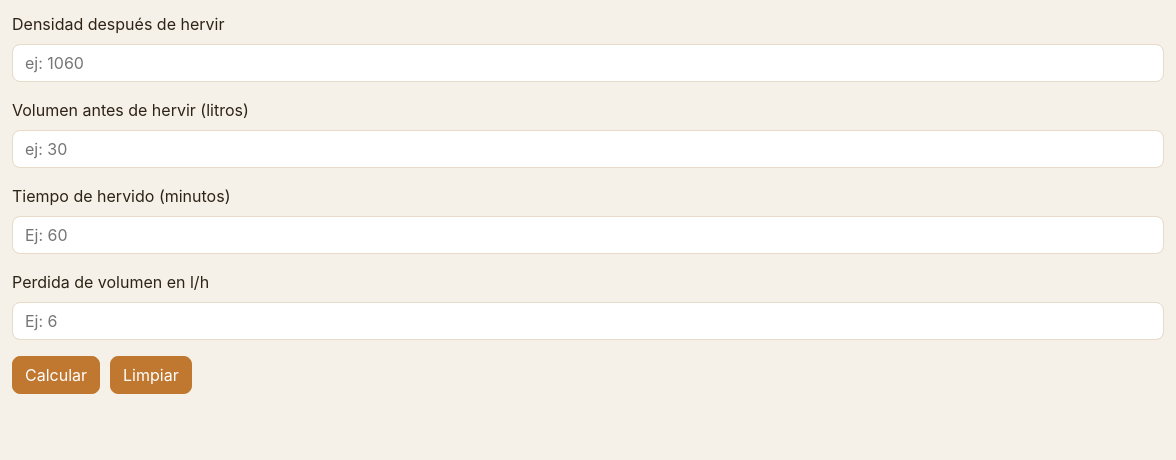
Test: InitialDensity › limpiar borra resultado y los cuatro campos
This screenshot has width=1176, height=460.
Type "1060" into the field with placeholder "ej: 1060" at (588, 63), box [12,44,1164,82]
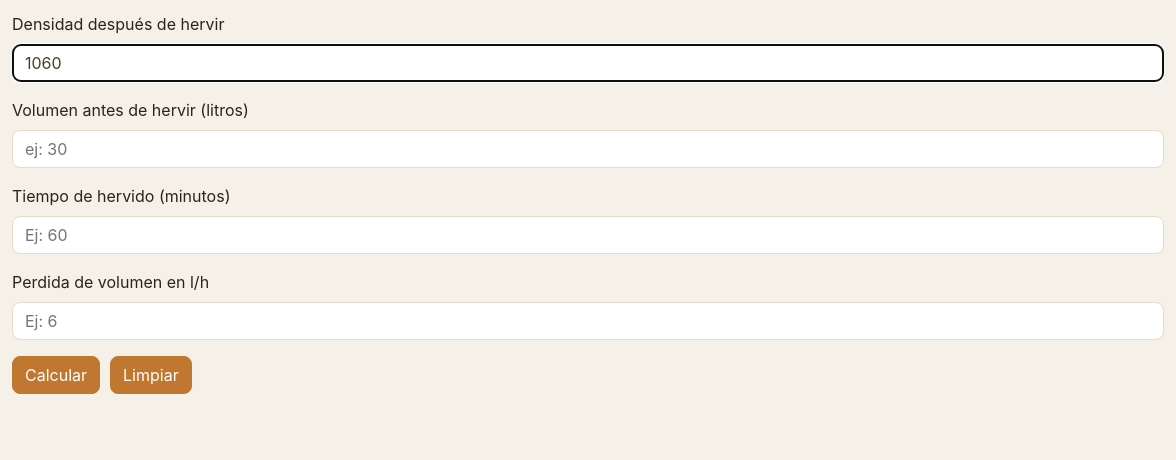
Type "25" into the field with placeholder "ej: 30" at (588, 149), box [12,130,1164,168]
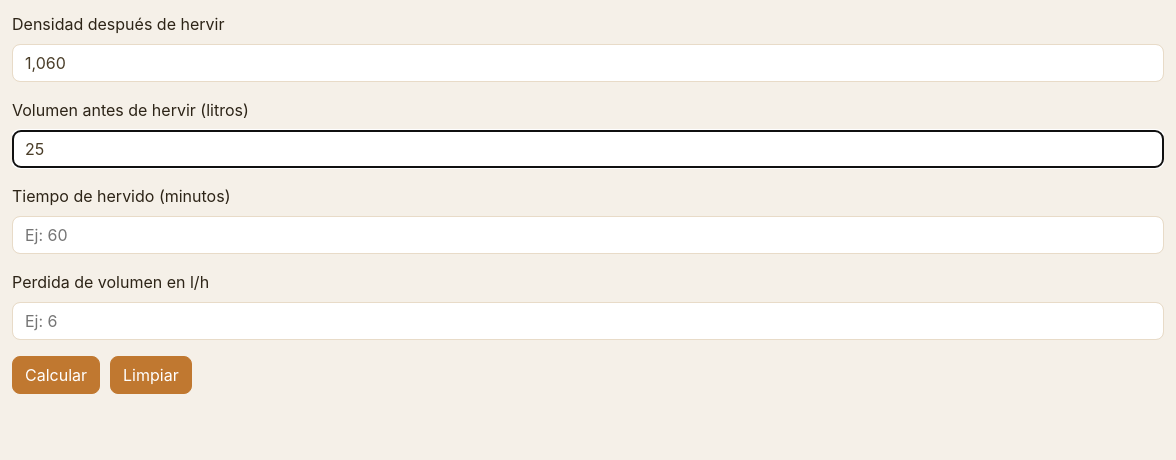
Type "60" into the field with placeholder "Ej: 60" at (588, 235), box [12,216,1164,254]
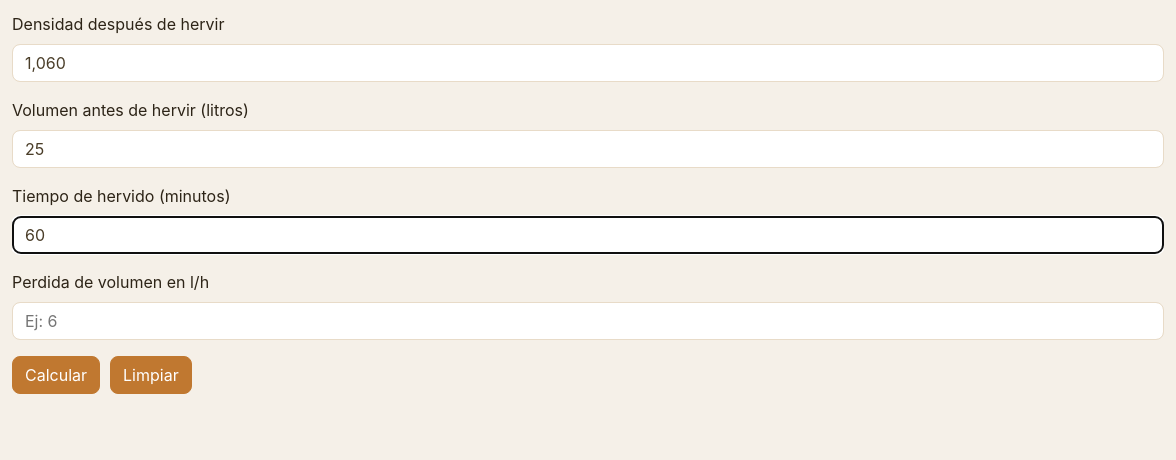
Type "6" into the field with placeholder "Ej: 6" at (588, 321), box [12,302,1164,340]
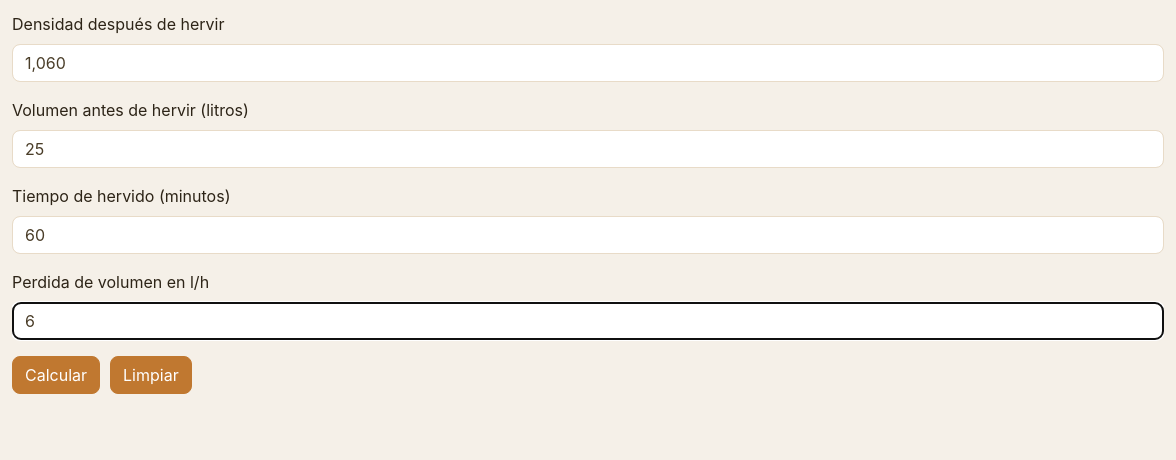
Click the button "Calcular" at (56, 375), box [12,356,100,394]
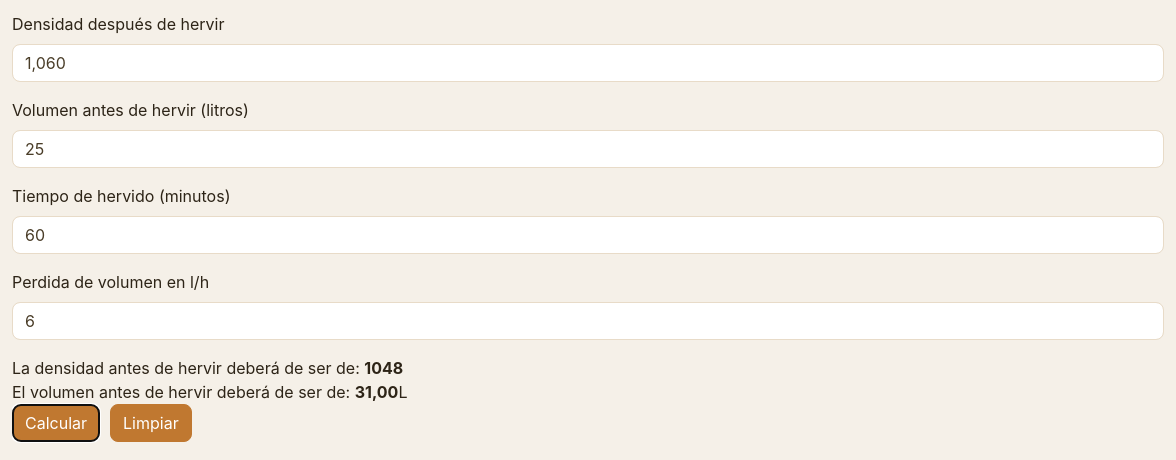
Expected: the text "La densidad antes de hervir deberá de ser de: 1048" is shown, [12,358,403,378]
Click the button "Limpiar" at (151, 423), box [110,404,192,442]
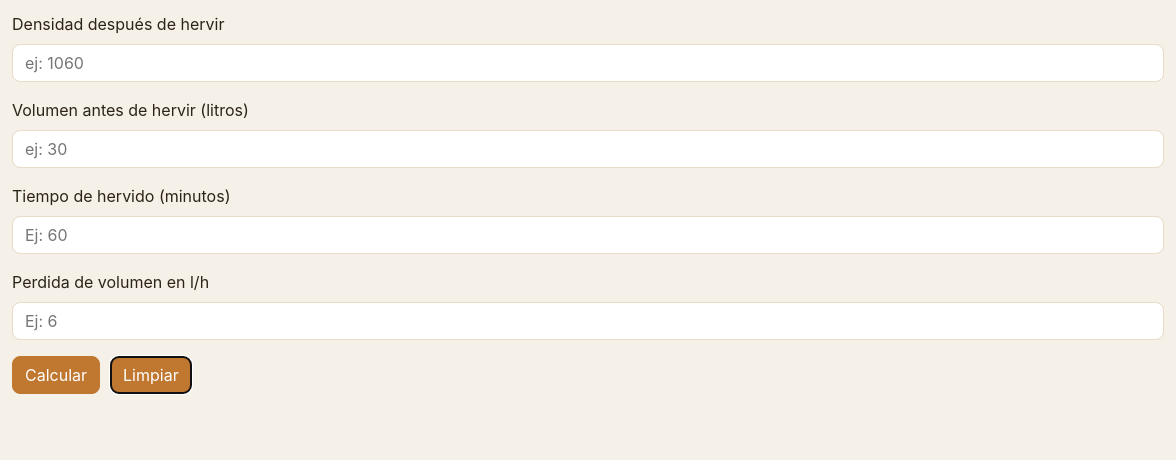
Expected: the text "La densidad antes de hervir deberá" is gone
Expected: the field with placeholder "ej: 1060" is empty, [12,44,1164,82]
Expected: the field with placeholder "Ej: 6" is empty, [12,302,1164,340]
